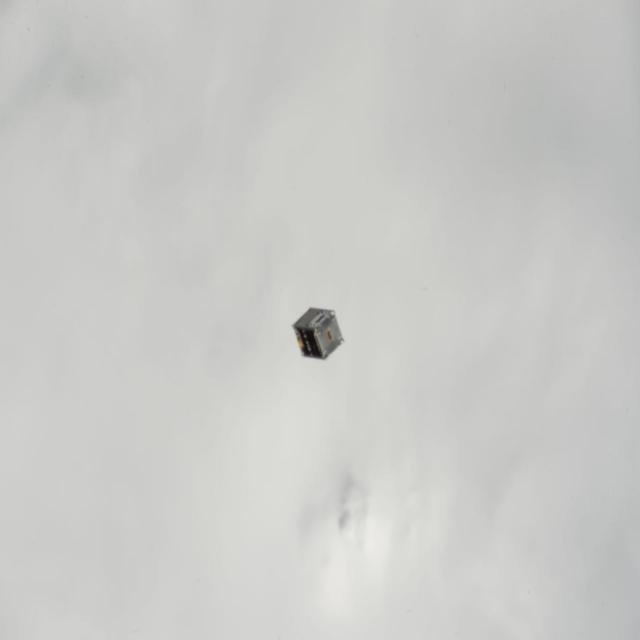medium_debris: (285, 296, 343, 368)
